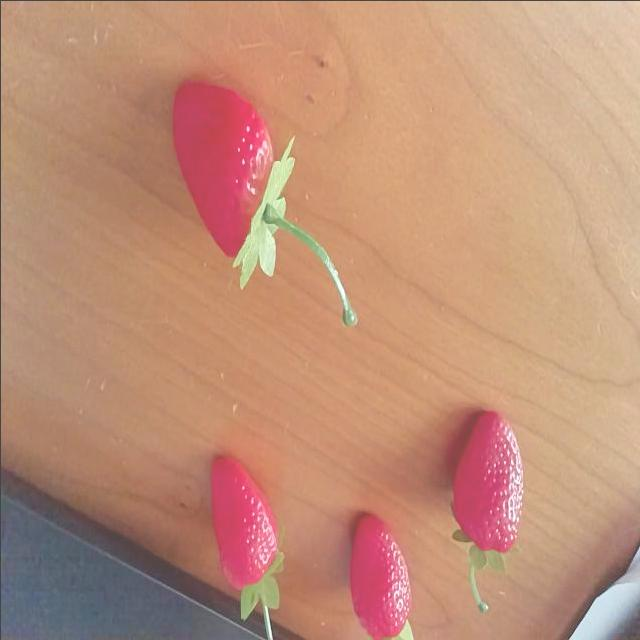ripe: (150, 71, 366, 331), (436, 407, 546, 615), (191, 448, 307, 640), (330, 493, 435, 640)
